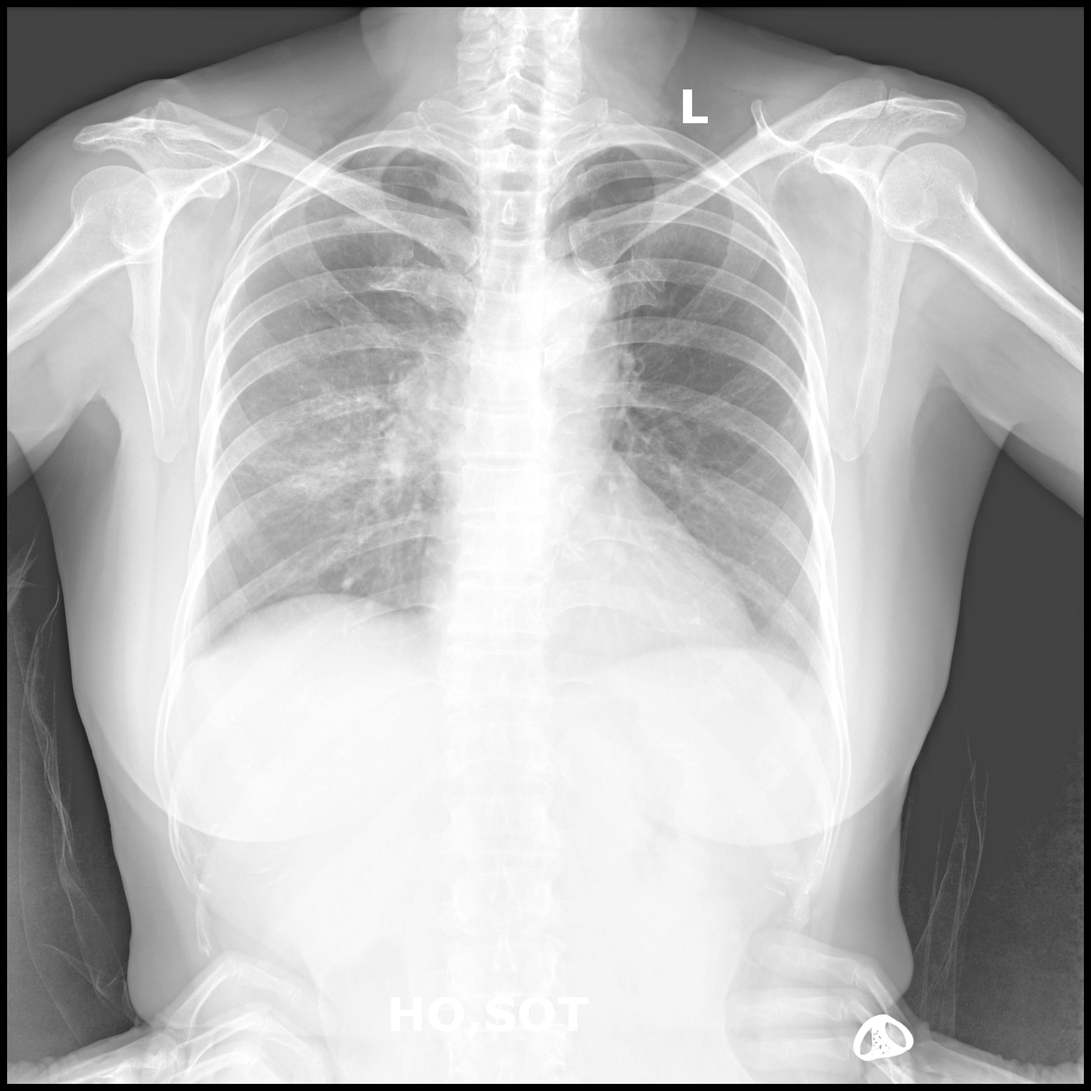Aortic enlargement: (521, 253, 625, 412)
